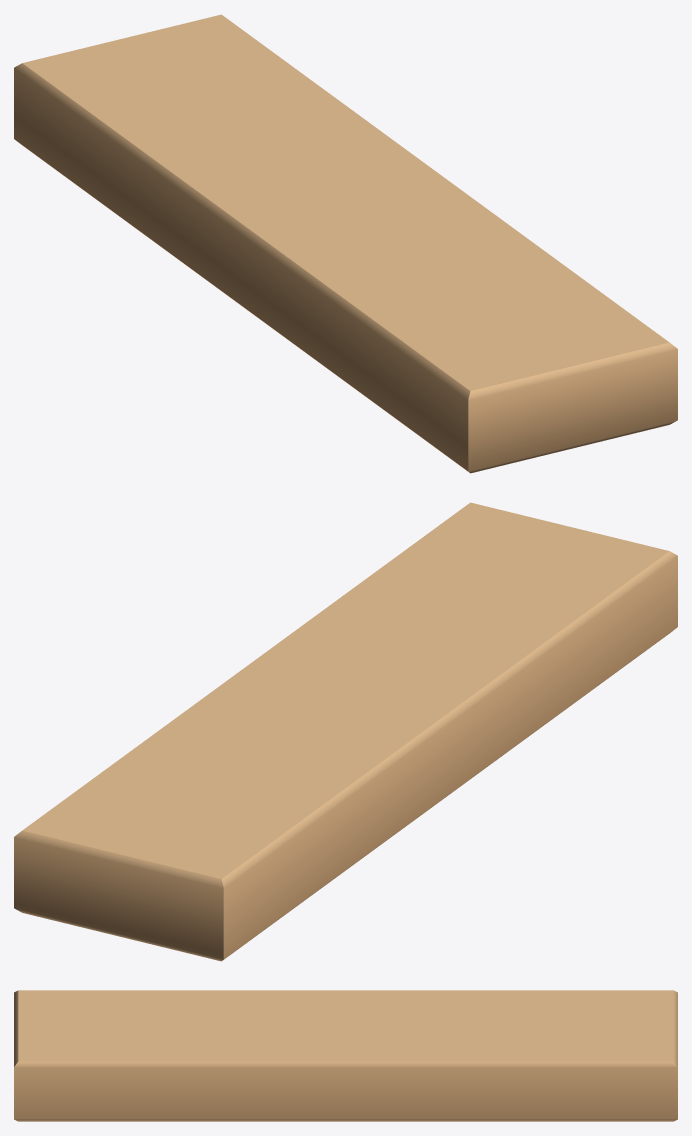
The model's file is wood-plank-a.glb.
3 renders of one model, top to bottom at view 1: azimuth 30°, elevation 25°; view 2: azimuth 150°, elevation 25°; view 3: azimuth 270°, elevation 25°, orthographic. The views are drawn at different scales.
Parts seen in each view (by area): view 1: Wood_Plank_A; view 2: Wood_Plank_A; view 3: Wood_Plank_A.
Part boxes in pixels (box(x1,y1,x2,y2)): Wood_Plank_A: box(14, 14, 677, 473); Wood_Plank_A: box(14, 502, 677, 961); Wood_Plank_A: box(14, 990, 677, 1121).
Bounding box in the file's own units: 0.4 × 0.15 × 1.5.
Materials: 1 (1 with a texture image).
